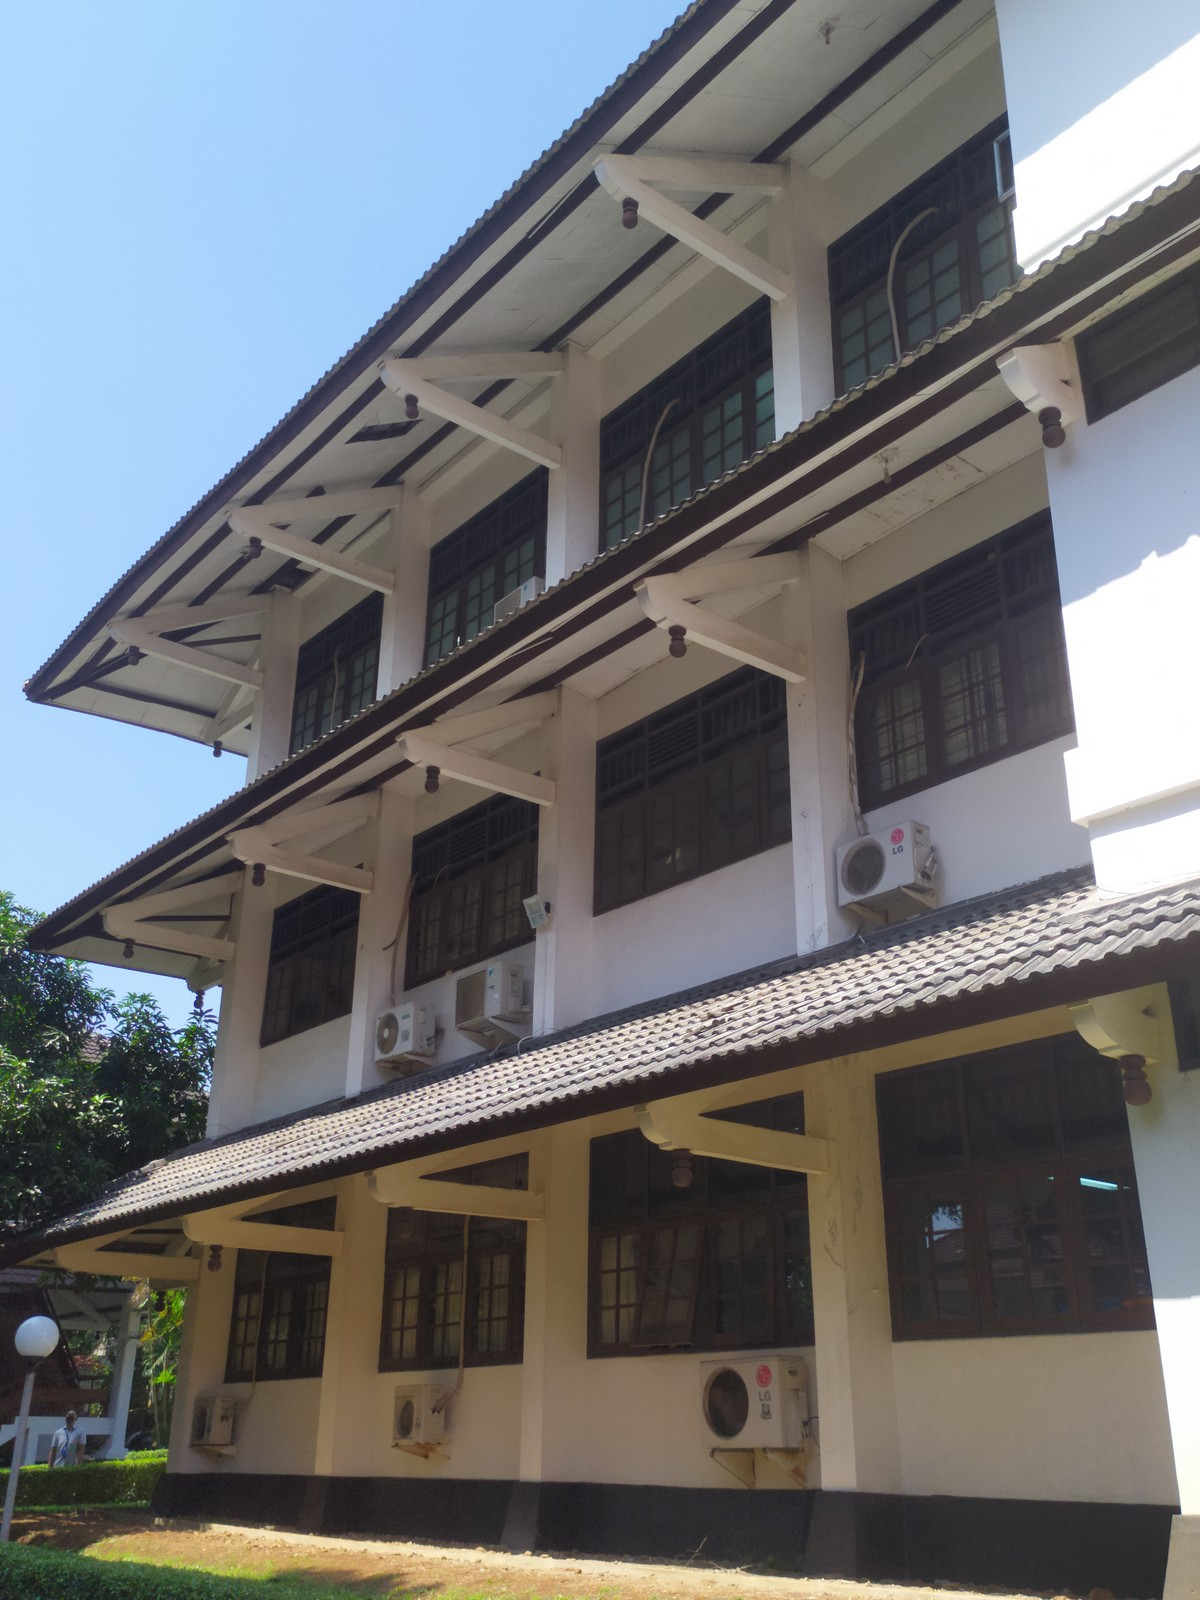concrete beam: (654, 198, 789, 299), (436, 393, 565, 474), (701, 1120, 842, 1184), (696, 610, 811, 687), (280, 532, 398, 596), (424, 1179, 548, 1230), (458, 755, 565, 813), (236, 1222, 349, 1262), (284, 855, 379, 898)
concrete column: (804, 1170, 913, 1540), (518, 1214, 596, 1511), (776, 687, 858, 947), (529, 815, 603, 1032), (318, 1264, 387, 1487), (344, 900, 408, 1094), (761, 294, 841, 417), (211, 969, 267, 1139), (539, 465, 606, 582), (377, 563, 439, 689)
